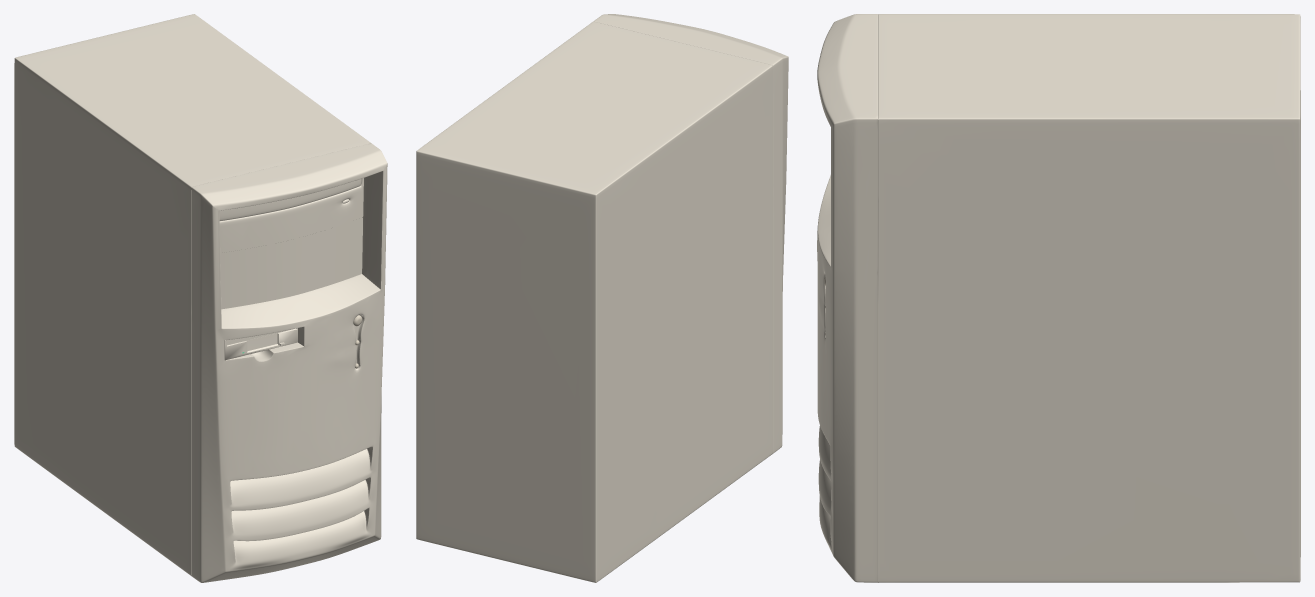
File: tower.gltf
3 renders of one model, left to right at view 1: azimuth 30°, elevation 25°; view 2: azimuth 150°, elevation 25°; view 3: azimuth 270°, elevation 25°, orthographic. The views are drawn at different scales.
Visible parts, largest first — view 1: tower; view 2: tower; view 3: tower.
Boxes of the visible parts, x1,y1,x2,y2 form: tower: (14,14,387,582); tower: (416,14,788,582); tower: (817,14,1300,582).
Size of the model in its own units: 0.1834 by 0.3777 by 0.3562.
